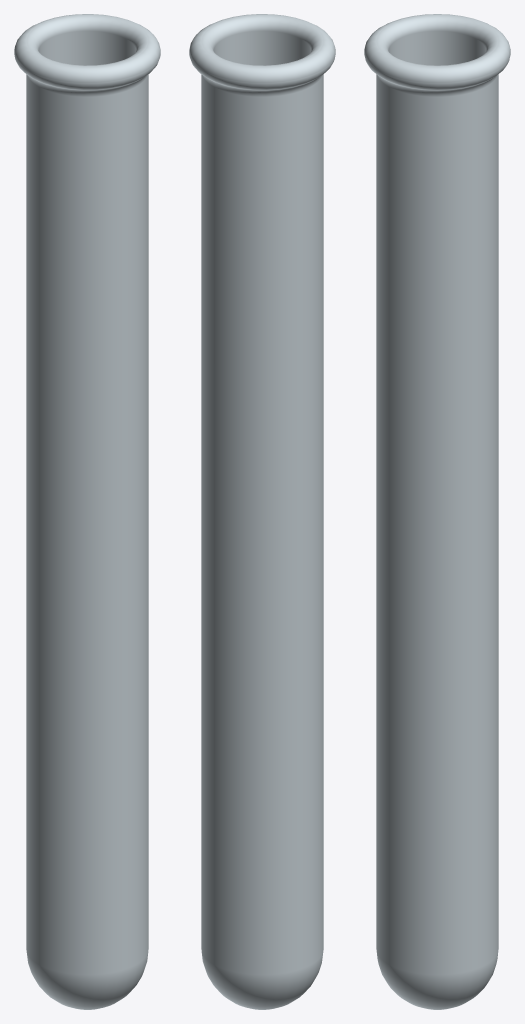
The model's file is TestTube.glb.
The picture shows the model from 3 angles, left to right: view 1: azimuth 30°, elevation 25°; view 2: azimuth 150°, elevation 25°; view 3: azimuth 270°, elevation 25°; orthographic projection.
Parts seen in each view (by area): view 1: TestTube; view 2: TestTube; view 3: TestTube.
Part boxes in pixels (bbox=[...]): TestTube: bbox=[14, 14, 160, 1009]; TestTube: bbox=[189, 14, 335, 1009]; TestTube: bbox=[364, 14, 510, 1009].
Bounding box in the file's own units: 0.0209 × 0.1514 × 0.0209.
1 material, 1 textured.
